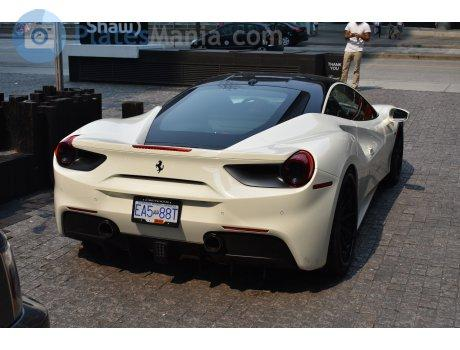licence: (129, 197, 182, 226)
